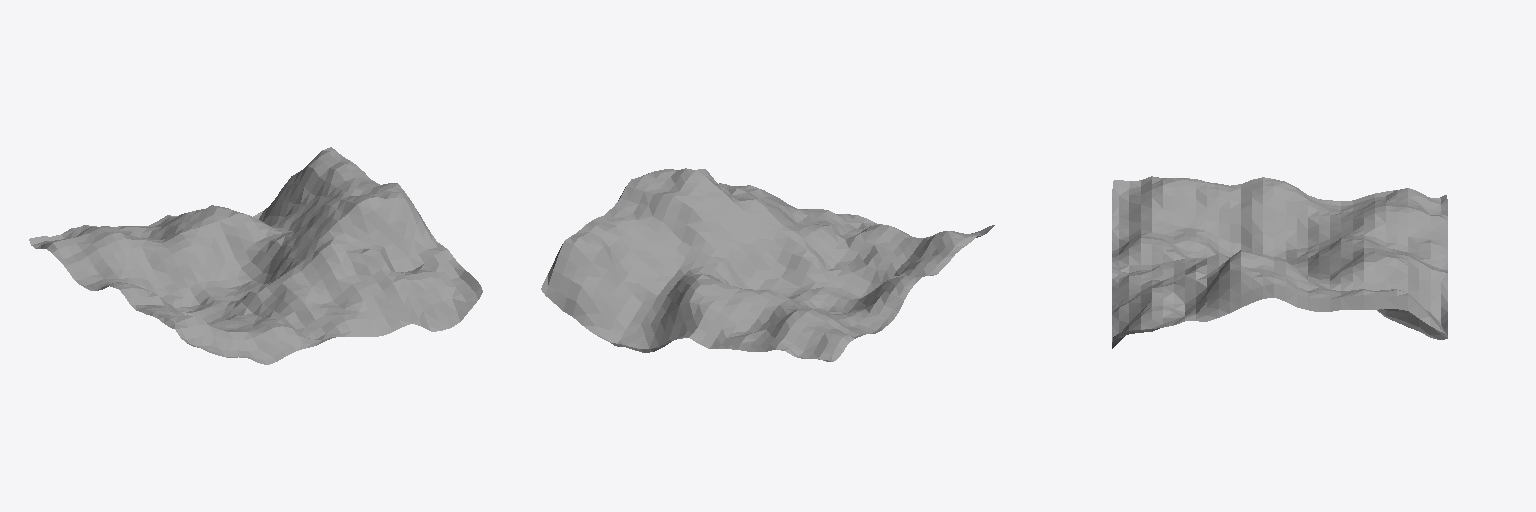
Rendered from terrain.obj.
3 renders of one model, left to right at view 1: azimuth 30°, elevation 25°; view 2: azimuth 150°, elevation 25°; view 3: azimuth 270°, elevation 25°, orthographic.
Size of the model in its own units: 38.79 by 12.54 by 38.79.